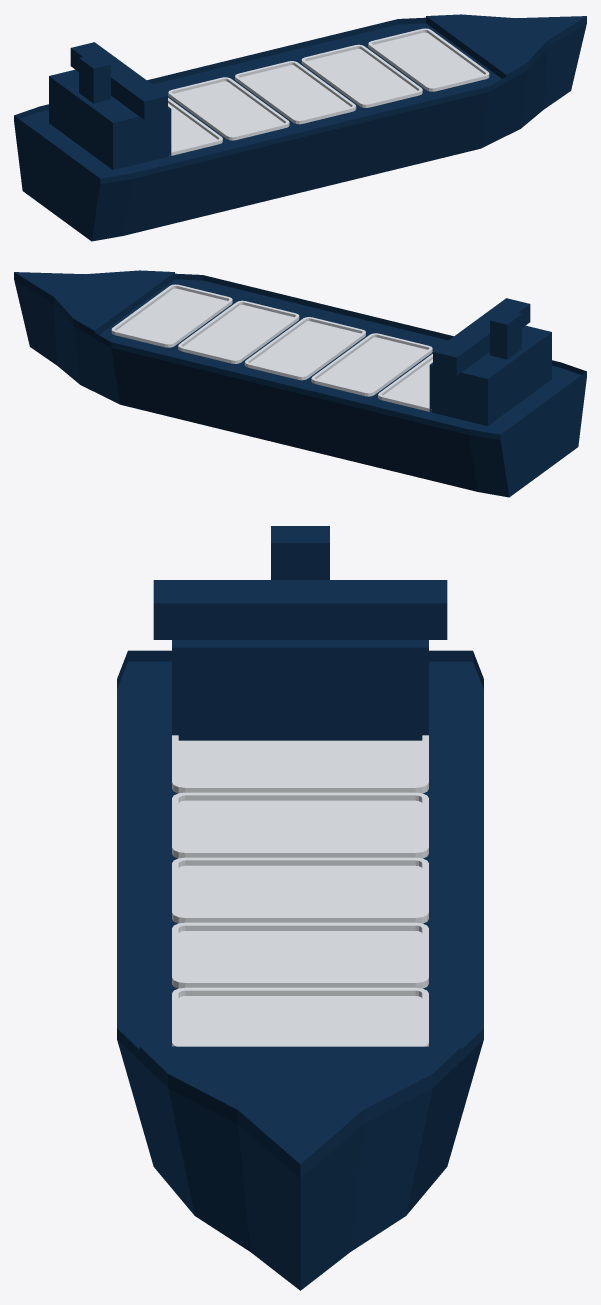
The model's file is vessel-hold-05.glb.
The picture shows the model from 3 angles, top to bottom: view 1: azimuth 30°, elevation 25°; view 2: azimuth 150°, elevation 25°; view 3: azimuth 270°, elevation 25°; orthographic projection. The views are drawn at different scales.
Visible parts, largest first — view 1: hull, superstructure, detail_forecastle, detail_bulwark, hold_01, hold_04, hold_02, hold_03, hold_05, detail_funnel; view 2: hull, superstructure, detail_forecastle, detail_bulwark, hold_01, hold_04, hold_02, hold_03, hold_05, detail_funnel; view 3: hull, superstructure, detail_forecastle, hold_02, hold_04, hold_03, hold_01, hold_05, detail_bulwark, detail_funnel.
Boxes of the visible parts, x1,y1,x2,y2 form: hull: (14, 23, 586, 241); superstructure: (49, 42, 171, 169); detail_forecastle: (426, 14, 586, 81); detail_bulwark: (14, 17, 586, 183); hold_01: (368, 28, 489, 91); hold_04: (168, 77, 289, 140); hold_02: (301, 44, 422, 107); hold_03: (235, 61, 356, 124); hold_05: (168, 98, 222, 155); detail_funnel: (79, 53, 110, 103); hull: (14, 279, 586, 497); superstructure: (429, 298, 551, 425); detail_forecastle: (14, 270, 174, 337); detail_bulwark: (14, 273, 586, 439); hold_01: (111, 284, 232, 347); hold_04: (311, 333, 432, 396); hold_02: (178, 300, 299, 363); hold_03: (244, 317, 365, 380); hold_05: (378, 354, 432, 411); detail_funnel: (490, 309, 521, 359); hull: (117, 661, 483, 1290); superstructure: (153, 580, 447, 740); detail_forecastle: (139, 1046, 461, 1176); hold_02: (172, 922, 428, 988); hold_04: (172, 792, 428, 858); hold_03: (172, 857, 428, 923); hold_01: (172, 987, 428, 1046); hold_05: (172, 735, 428, 793); detail_bulwark: (117, 650, 483, 1178); detail_funnel: (271, 526, 329, 579).
Bounding box in the file's own units: 10 × 2.63 × 3.
